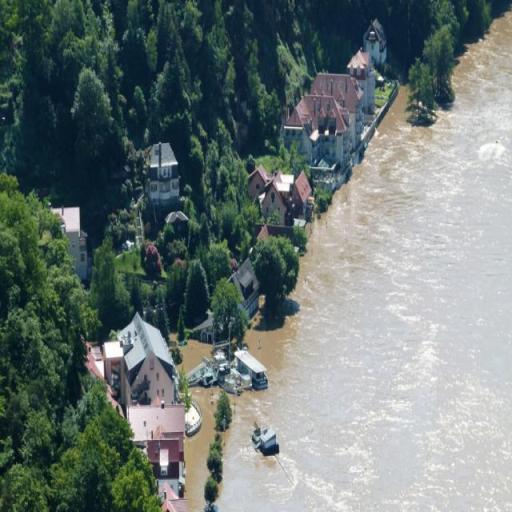flood: (223, 11, 512, 512), (218, 385, 274, 512), (185, 387, 222, 512), (249, 317, 300, 385), (372, 86, 408, 144), (183, 341, 211, 372)
house: (113, 314, 178, 400), (123, 403, 186, 472), (290, 94, 347, 134), (59, 205, 88, 281), (147, 143, 182, 205), (227, 258, 260, 318), (310, 71, 363, 106), (261, 168, 288, 218), (363, 18, 388, 63), (251, 424, 278, 459), (290, 170, 313, 204), (346, 48, 370, 72), (249, 164, 267, 194)
